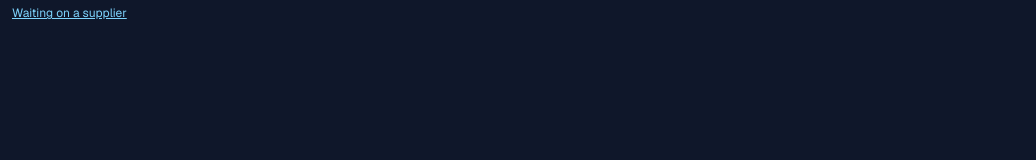
Scenario: supplier waits (spec §4/§5) › the department records a wait with vendor and expected date
Later steps or results of the test are not shown.
Step 1. Click the button with test id "supwait-open-3" → x=69, y=13, box [12,5,127,21]
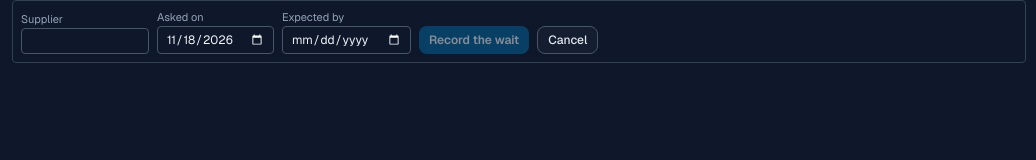
Expected: the button with test id "supwait-save-3" is disabled, [419,26,529,54]
Step 2. Type "FZ" into the field with test id "supwait-vendor-3" → x=85, y=40, box [21,28,149,54]
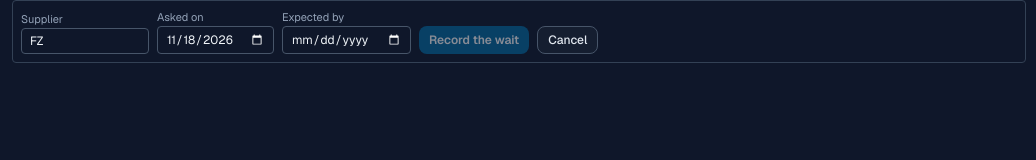
Step 3. Type "2026-11-03" into the date field with test id "supwait-expected-3" → x=346, y=40, box [282,26,411,54]
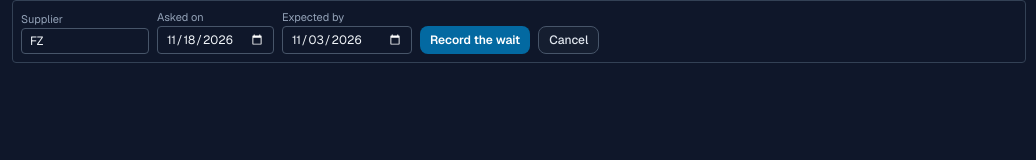
Expected: the button with test id "supwait-save-3" is enabled, [420,26,530,54]
